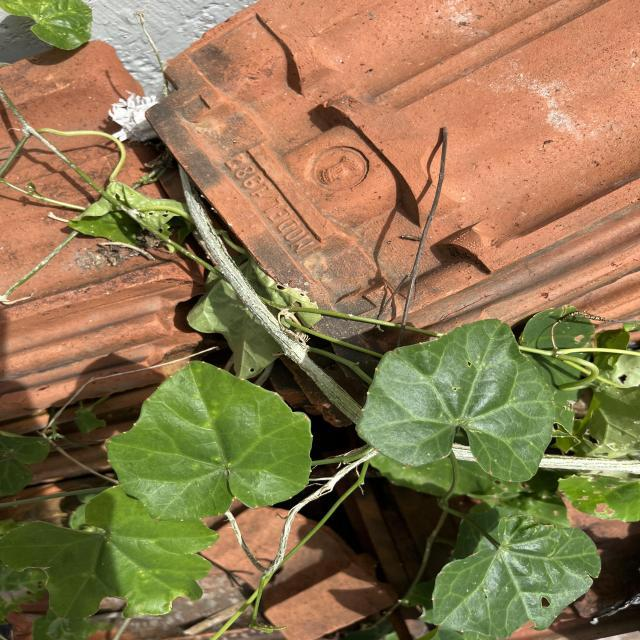Coccinia grandis: (102, 358, 317, 524), (353, 314, 559, 484)
